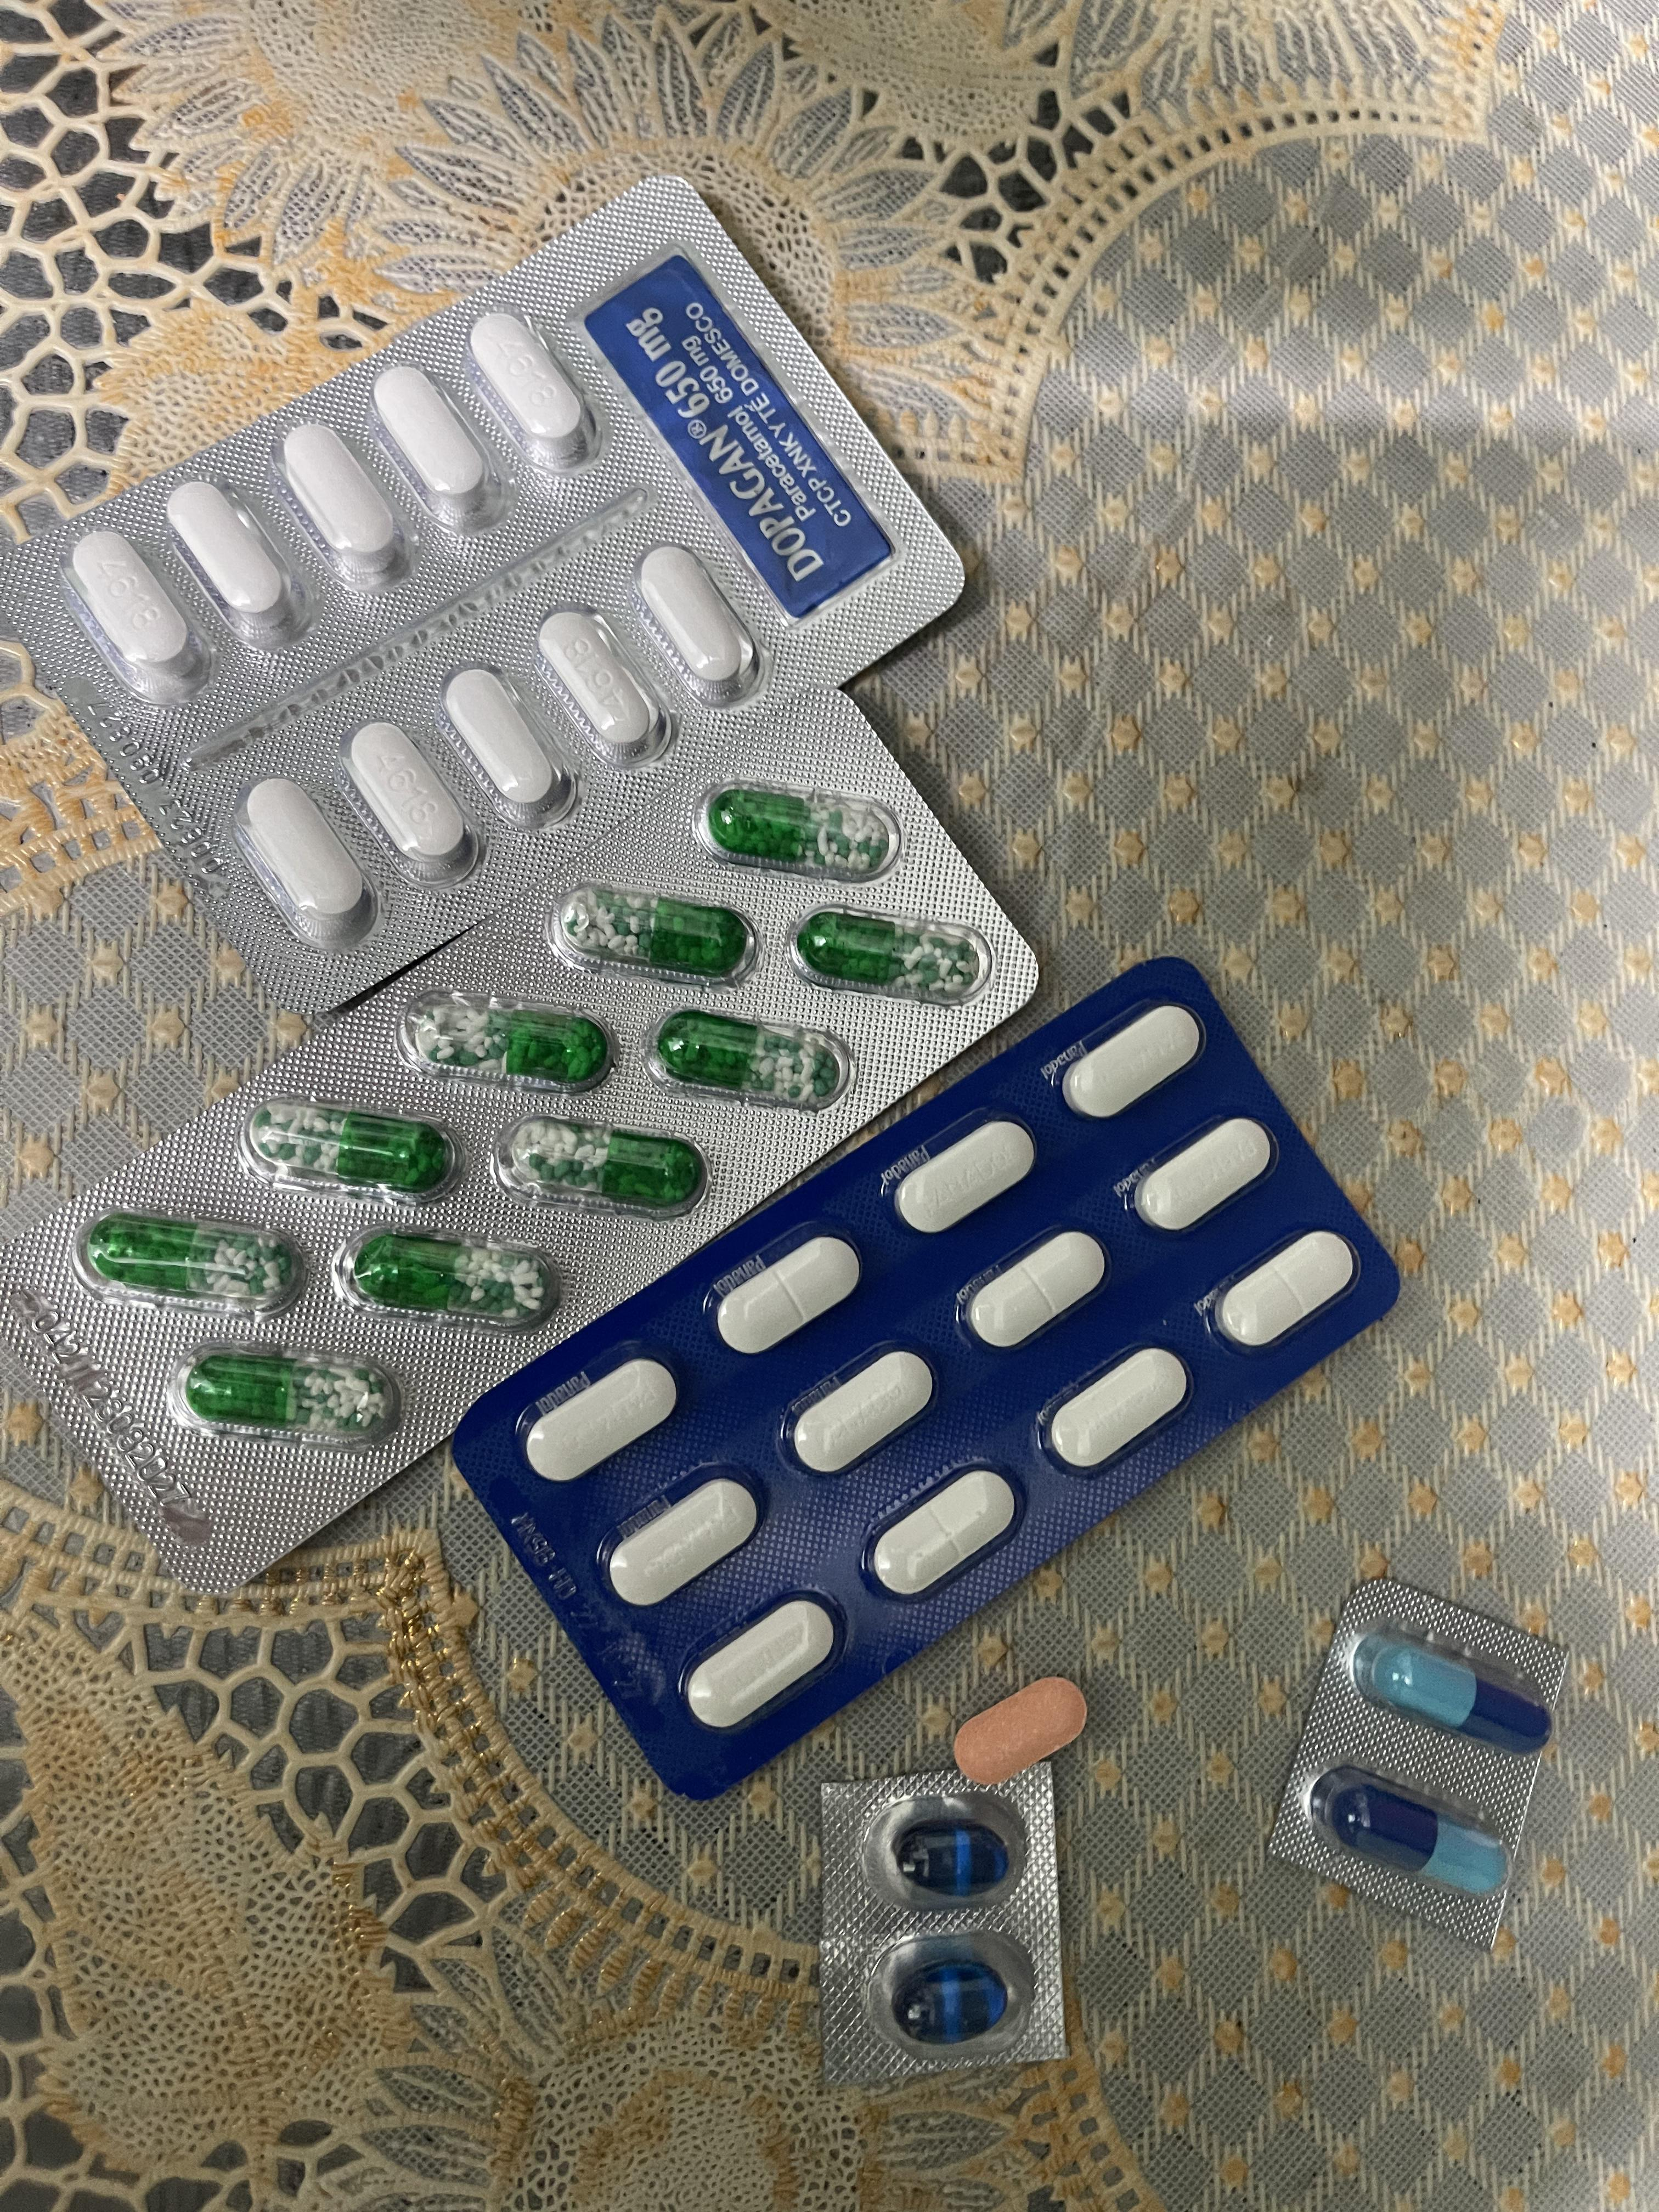Lincomyxin_500mg: (893, 1957, 1009, 2041), (891, 1821, 1011, 1896)
Loratadine_10mg: (949, 1674, 1091, 1786)
Paracetamol_350mg: (522, 1355, 679, 1486), (603, 1474, 757, 1607), (685, 1598, 837, 1726), (870, 1470, 1017, 1600), (791, 1349, 935, 1479), (1045, 1346, 1190, 1475), (1209, 1229, 1359, 1352), (1130, 1116, 1276, 1234), (719, 1234, 858, 1356), (963, 1231, 1104, 1351), (891, 1116, 1034, 1234), (1062, 1002, 1202, 1116)
Paracetamol_500mg: (67, 531, 211, 701), (233, 776, 381, 941), (172, 480, 307, 651), (372, 363, 501, 538), (282, 420, 411, 589), (342, 719, 477, 878), (537, 608, 669, 764), (469, 310, 596, 470), (442, 674, 572, 828), (639, 544, 748, 682)
Paracetamol_650mg: (245, 1096, 458, 1197), (340, 1226, 560, 1323), (406, 989, 612, 1085), (496, 1115, 704, 1211), (549, 884, 748, 981), (652, 1009, 837, 1102), (93, 1215, 295, 1300), (796, 902, 982, 990), (185, 1355, 387, 1434), (715, 787, 882, 866)
pill: (1357, 1629, 1550, 1753), (1325, 1771, 1509, 1894)
